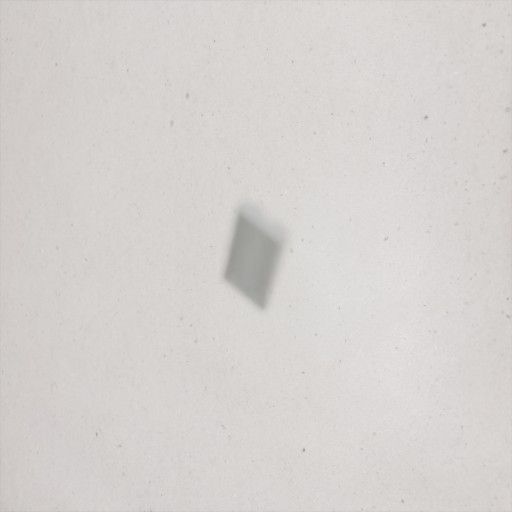lego: (220, 197, 291, 314)
